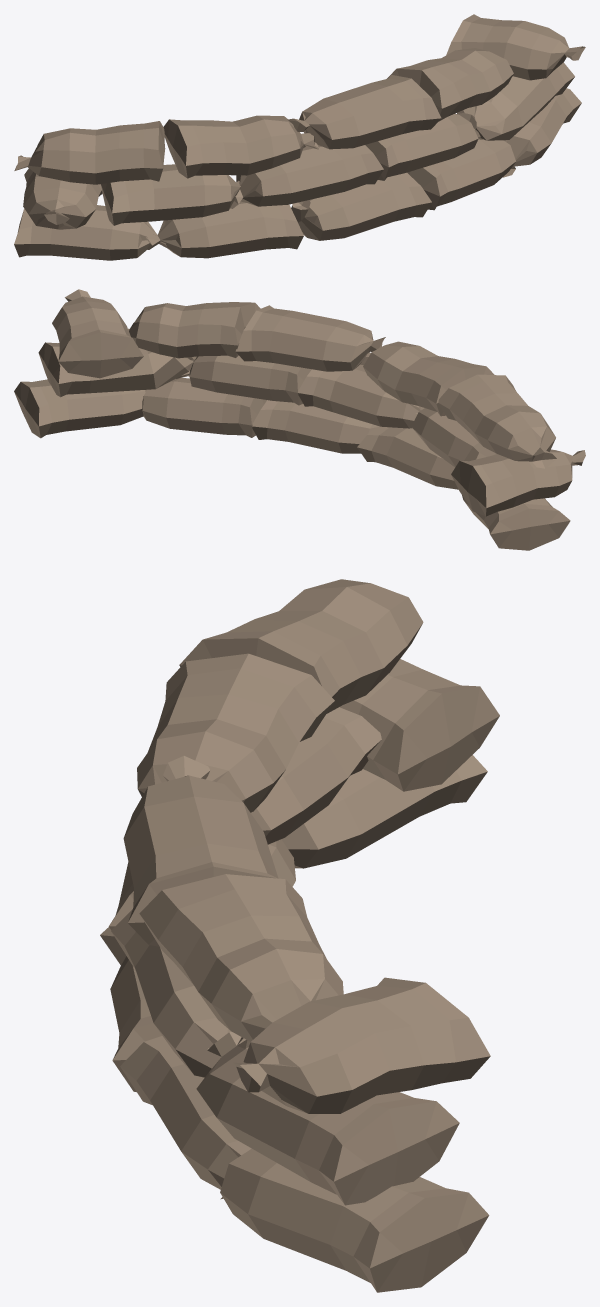
File: sandbags-rounded.fbx
3 renders of one model, top to bottom at view 1: azimuth 30°, elevation 25°; view 2: azimuth 150°, elevation 25°; view 3: azimuth 270°, elevation 25°, orthographic. The views are drawn at different scales.
Visible parts, largest first — view 1: sandbags-rounded; view 2: sandbags-rounded; view 3: sandbags-rounded.
Boxes of the visible parts, x1,y1,x2,y2 form: sandbags-rounded: (14, 14, 585, 260); sandbags-rounded: (14, 289, 585, 550); sandbags-rounded: (100, 579, 499, 1292).
Size of the model in its own units: 5.35 by 1.19 by 1.68.
